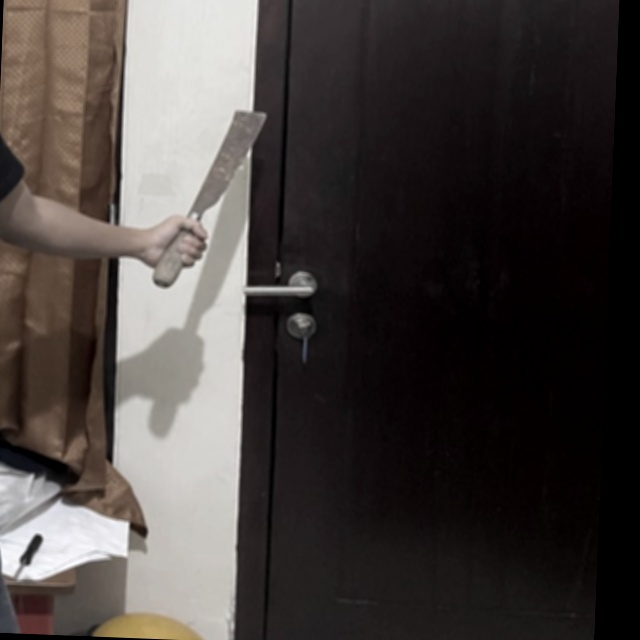Sharp-Object: (151, 106, 269, 294)
